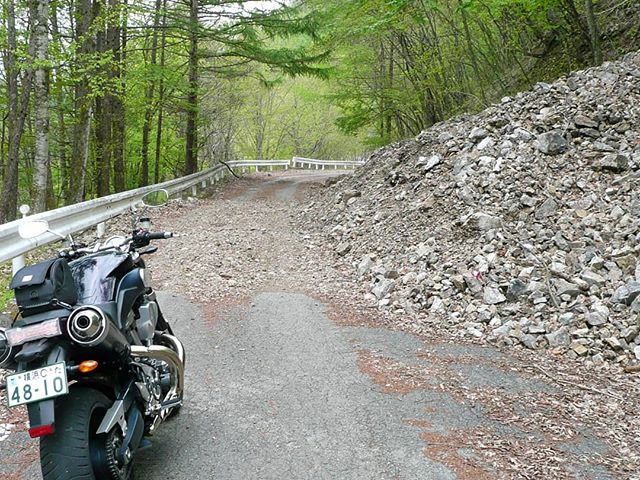motorcycle: (13, 233, 197, 480)
road: (159, 173, 376, 480)
rocks: (321, 49, 640, 365)
vegetation: (1, 3, 565, 200)
